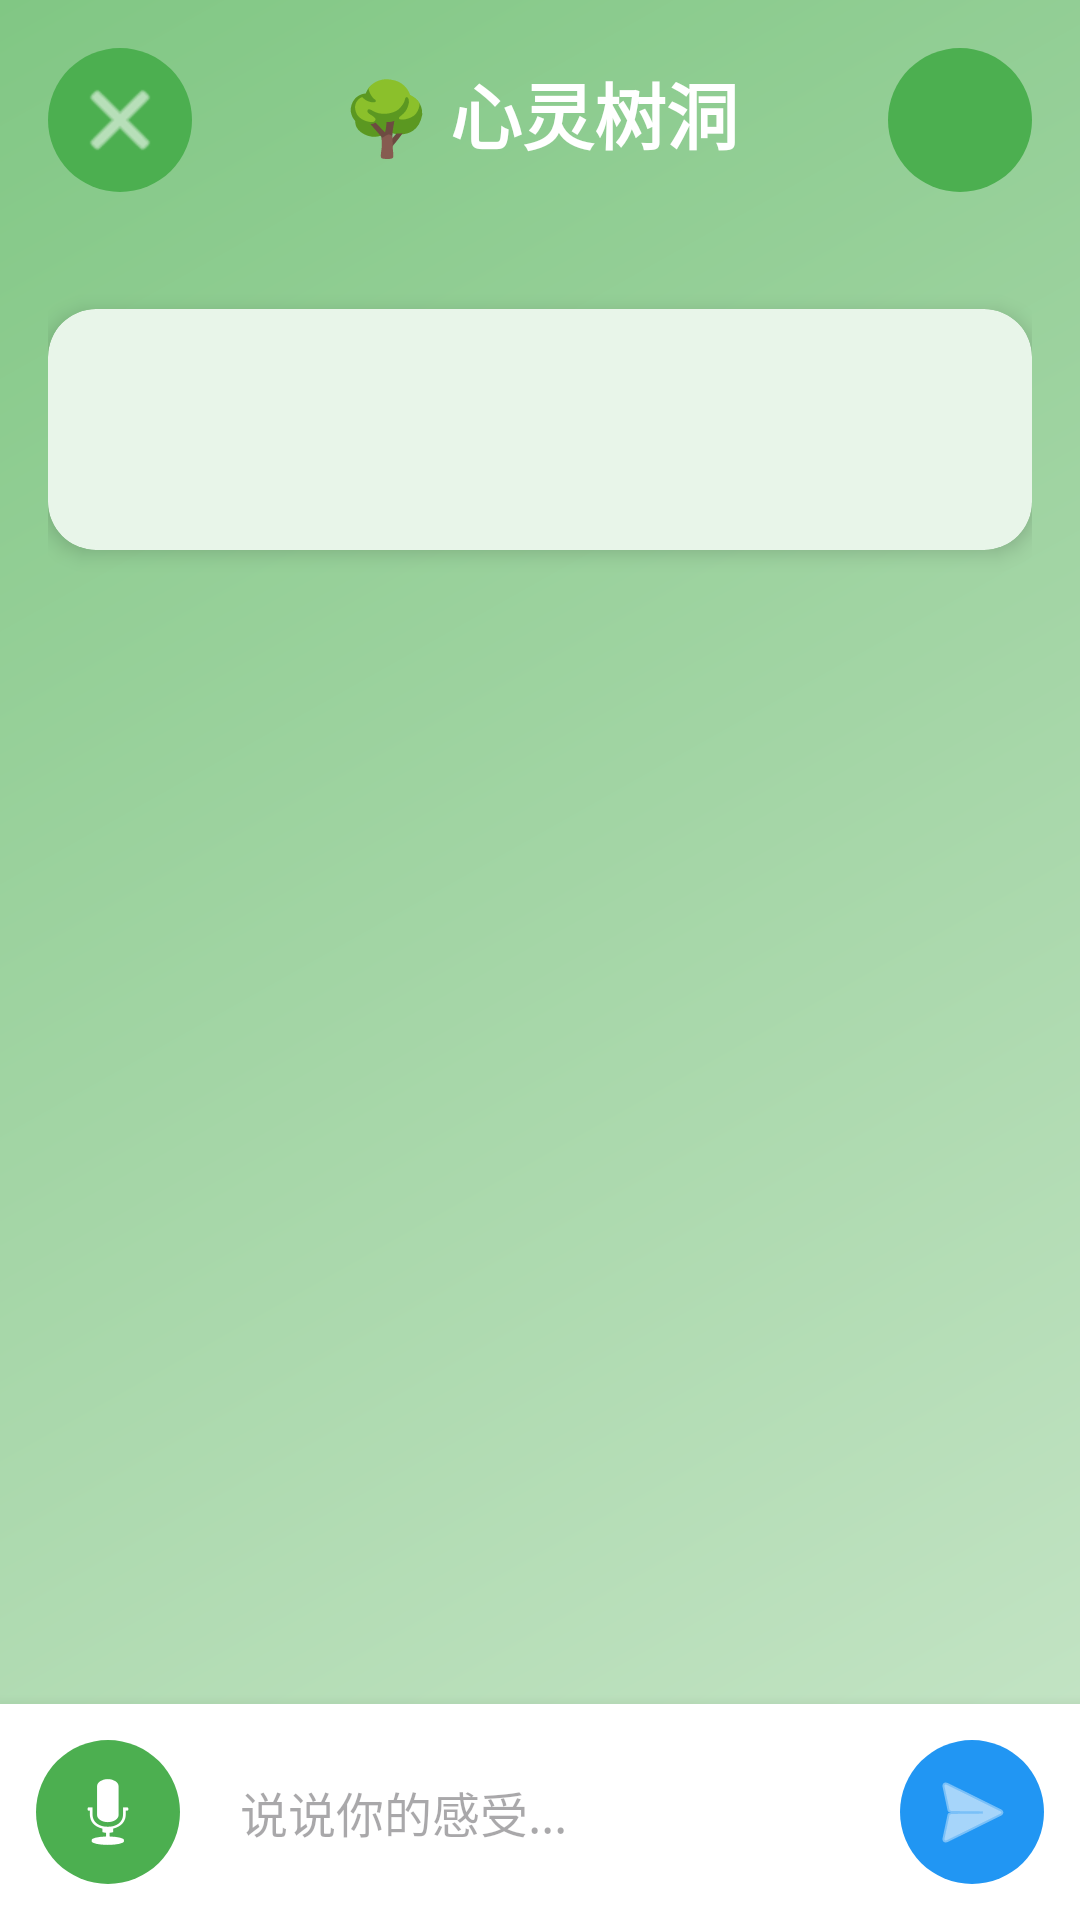

Screen size 1080*1920. Icon name, then its box in pixels as detection(x1, y1, x2, y2):
发送: detection(900, 1740, 1044, 1884)
语音输入: detection(36, 1740, 180, 1884)
